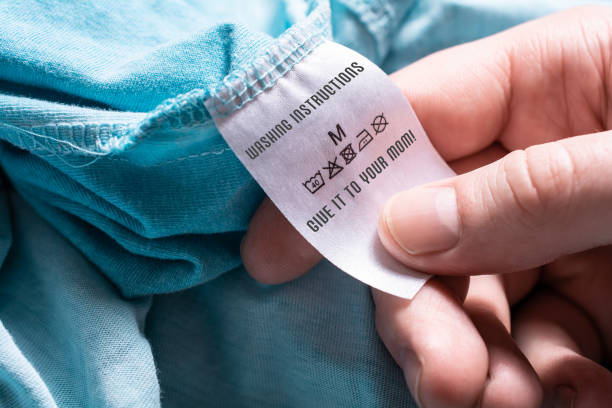ER_iron_medium_temp: (354, 128, 375, 153)
ER_no_bleach: (322, 155, 345, 180)
ER_no_dry_clean: (369, 111, 393, 136)
ER_no_tumble_dry: (338, 141, 357, 164)
ER_wash_40: (301, 168, 327, 196)
